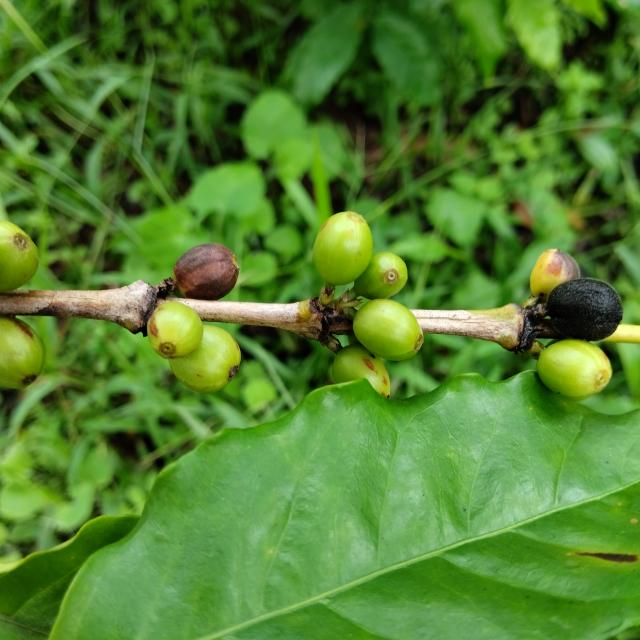green: (168, 325, 241, 393), (538, 340, 613, 401), (313, 211, 373, 286), (353, 299, 424, 361), (147, 301, 203, 359), (0, 316, 43, 389), (331, 344, 390, 397), (0, 221, 38, 292), (355, 252, 408, 300)
red: (547, 278, 624, 341), (173, 243, 239, 300), (531, 249, 581, 296)
